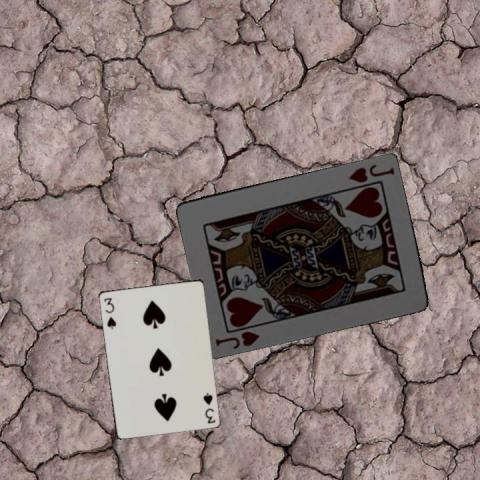3s: (200, 389, 217, 425), (101, 295, 117, 330)
Jh: (212, 327, 261, 351), (345, 161, 396, 184)
